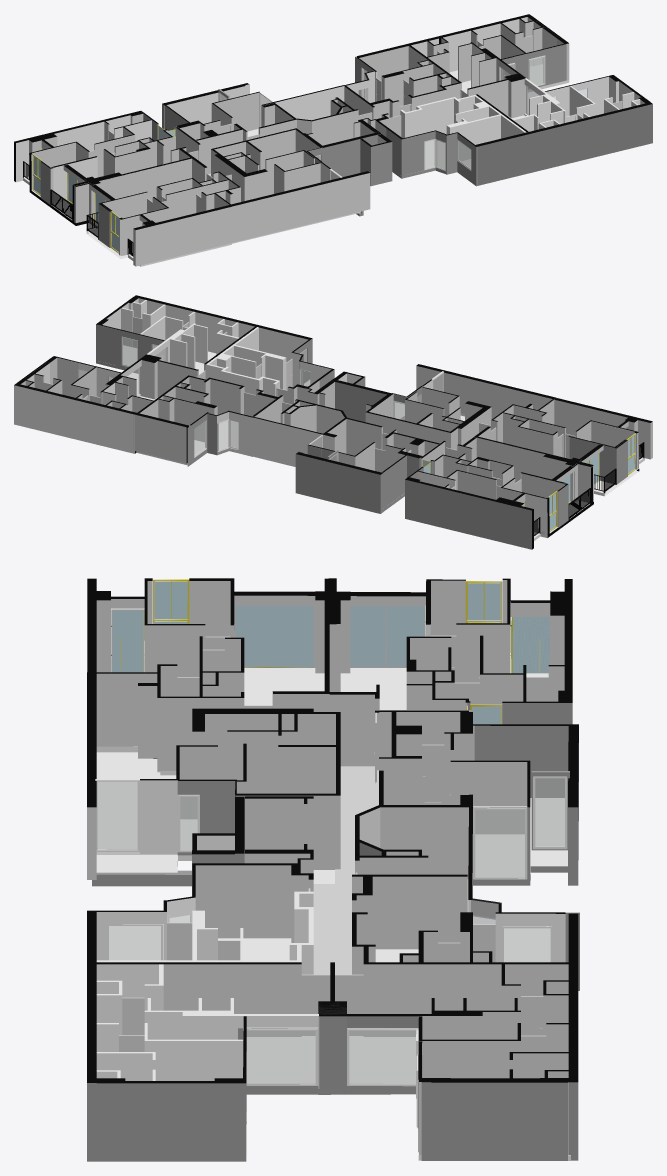
Rendered from modelo_piso_4.1.glb.
3 renders of one model, top to bottom at view 1: azimuth 30°, elevation 25°; view 2: azimuth 150°, elevation 25°; view 3: azimuth 270°, elevation 25°, orthographic. The views are drawn at different scales.
Visible parts, largest first — view 1: depa-5.3, depa-3, depa-1, depa-7, depa-8, depa-4.4, pasadiso, depa-6, depa-2.1; view 2: depa-5.3, depa-7, depa-4.4, depa-6, depa-2.1, depa-1, depa-3, depa-8, pasadiso; view 3: depa-4.4, depa-1, depa-3, depa-5.3, depa-6, depa-7, depa-8, depa-2.1, pasadiso.
Part boxes in pixels (bbox=[...]): depa-5.3: bbox=[14, 111, 200, 225]; depa-3: bbox=[211, 128, 370, 243]; depa-1: bbox=[467, 74, 652, 173]; depa-7: bbox=[68, 157, 237, 266]; depa-8: bbox=[375, 95, 529, 186]; depa-4.4: bbox=[406, 14, 569, 118]; pasadiso: bbox=[208, 85, 392, 186]; depa-6: bbox=[162, 83, 296, 173]; depa-2.1: bbox=[344, 44, 461, 119]; depa-5.3: bbox=[405, 437, 593, 549]; depa-7: bbox=[474, 398, 652, 505]; depa-4.4: bbox=[14, 354, 198, 453]; depa-6: bbox=[295, 417, 444, 513]; depa-2.1: bbox=[137, 376, 283, 466]; depa-1: bbox=[96, 295, 258, 398]; depa-3: bbox=[365, 364, 556, 449]; depa-8: bbox=[206, 325, 334, 404]; pasadiso: bbox=[252, 371, 390, 466]; depa-4.4: bbox=[318, 962, 578, 1160]; depa-1: bbox=[87, 962, 346, 1161]; depa-3: bbox=[87, 672, 340, 886]; depa-5.3: bbox=[324, 578, 572, 783]; depa-6: bbox=[379, 710, 578, 885]; depa-7: bbox=[87, 578, 350, 772]; depa-8: bbox=[87, 863, 313, 974]; depa-2.1: bbox=[352, 874, 579, 990]; pasadiso: bbox=[192, 766, 473, 974].
Bounding box in the file's own units: 37.51 × 3.12 × 15.45.
22 materials, 2 textured.
